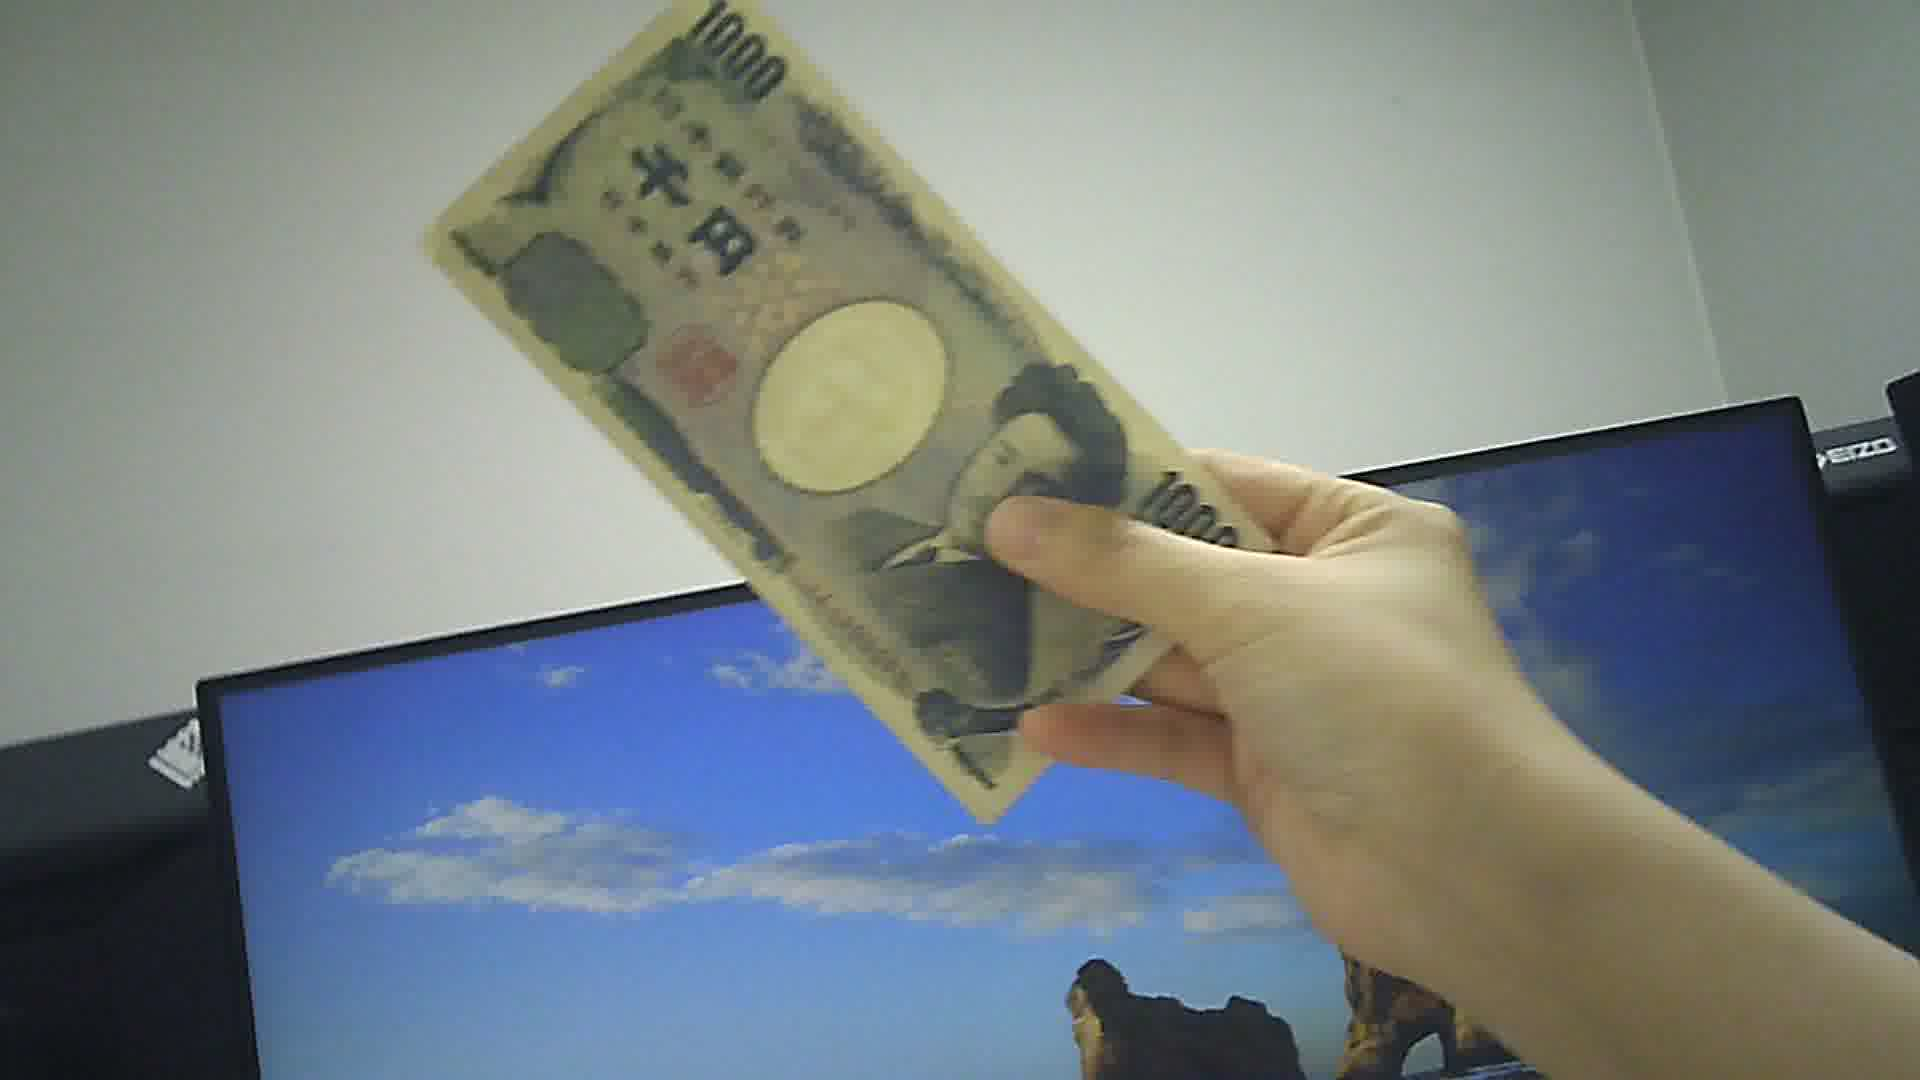1,000 Yen: (415, 3, 1265, 833)
